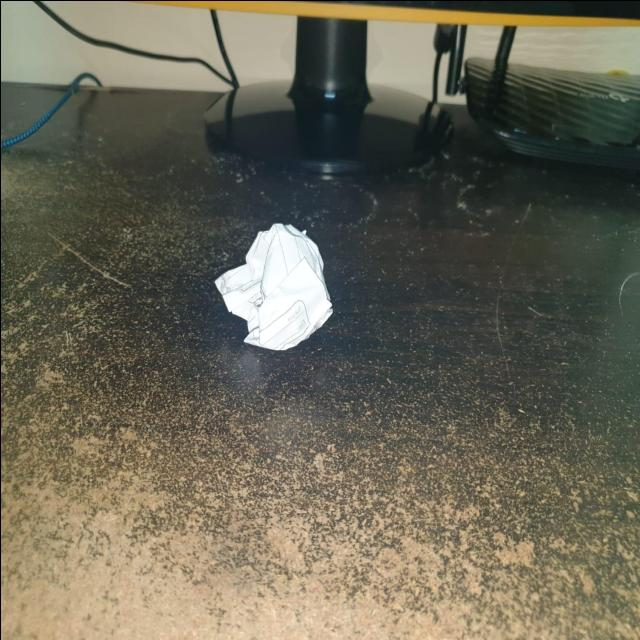kertas: (208, 218, 332, 352)
